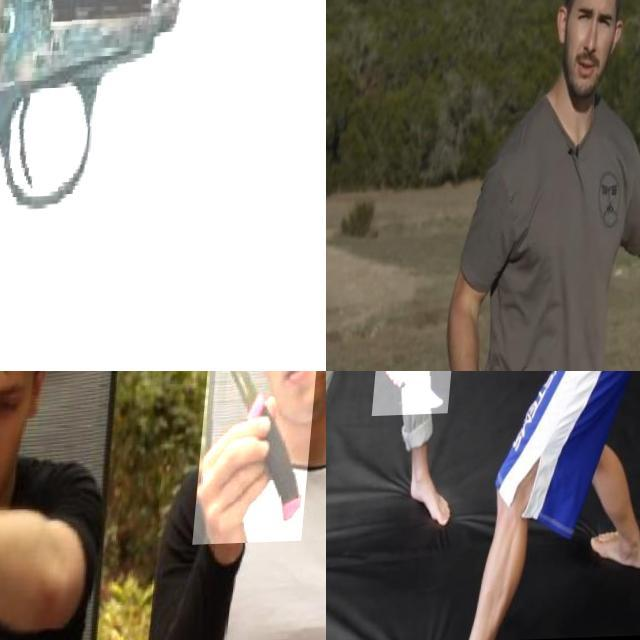-: (199, 371, 326, 547), (379, 371, 460, 418)
gun-knife-thesis - v11 Yolov5 augmented: (0, 0, 326, 371)
